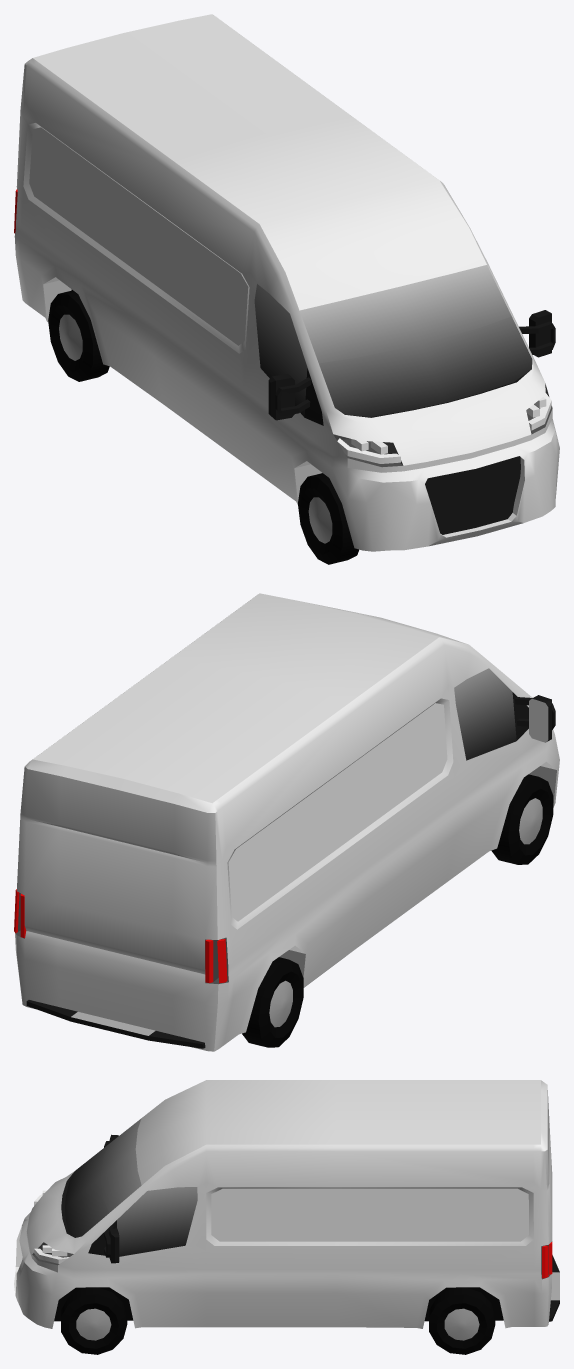
Rendered from van 4.fbx.
3 views of the same model, one above another, from view 1: azimuth 30°, elevation 25°; view 2: azimuth 150°, elevation 25°; view 3: azimuth 270°, elevation 25° (orthographic). The views are drawn at different scales.
Visible parts, largest first — view 1: Plane, Cylinder.002, Cylinder.003; view 2: Plane, Cylinder.003, Cylinder.002; view 3: Plane, Cylinder, Cylinder.001.
Part boxes in pixels (x1,y1,x2,y2): Plane: (14,14,559,551); Cylinder.002: (298,473,358,564); Cylinder.003: (48,290,109,381); Plane: (14,593,559,1051); Cylinder.003: (242,957,303,1047); Cylinder.002: (491,774,553,864); Plane: (14,1080,559,1328); Cylinder: (61,1287,127,1354); Cylinder.001: (429,1287,495,1354).
Bounding box in the file's own units: 100 × 95.42 × 228.
Materials: 1 (1 with a texture image).
